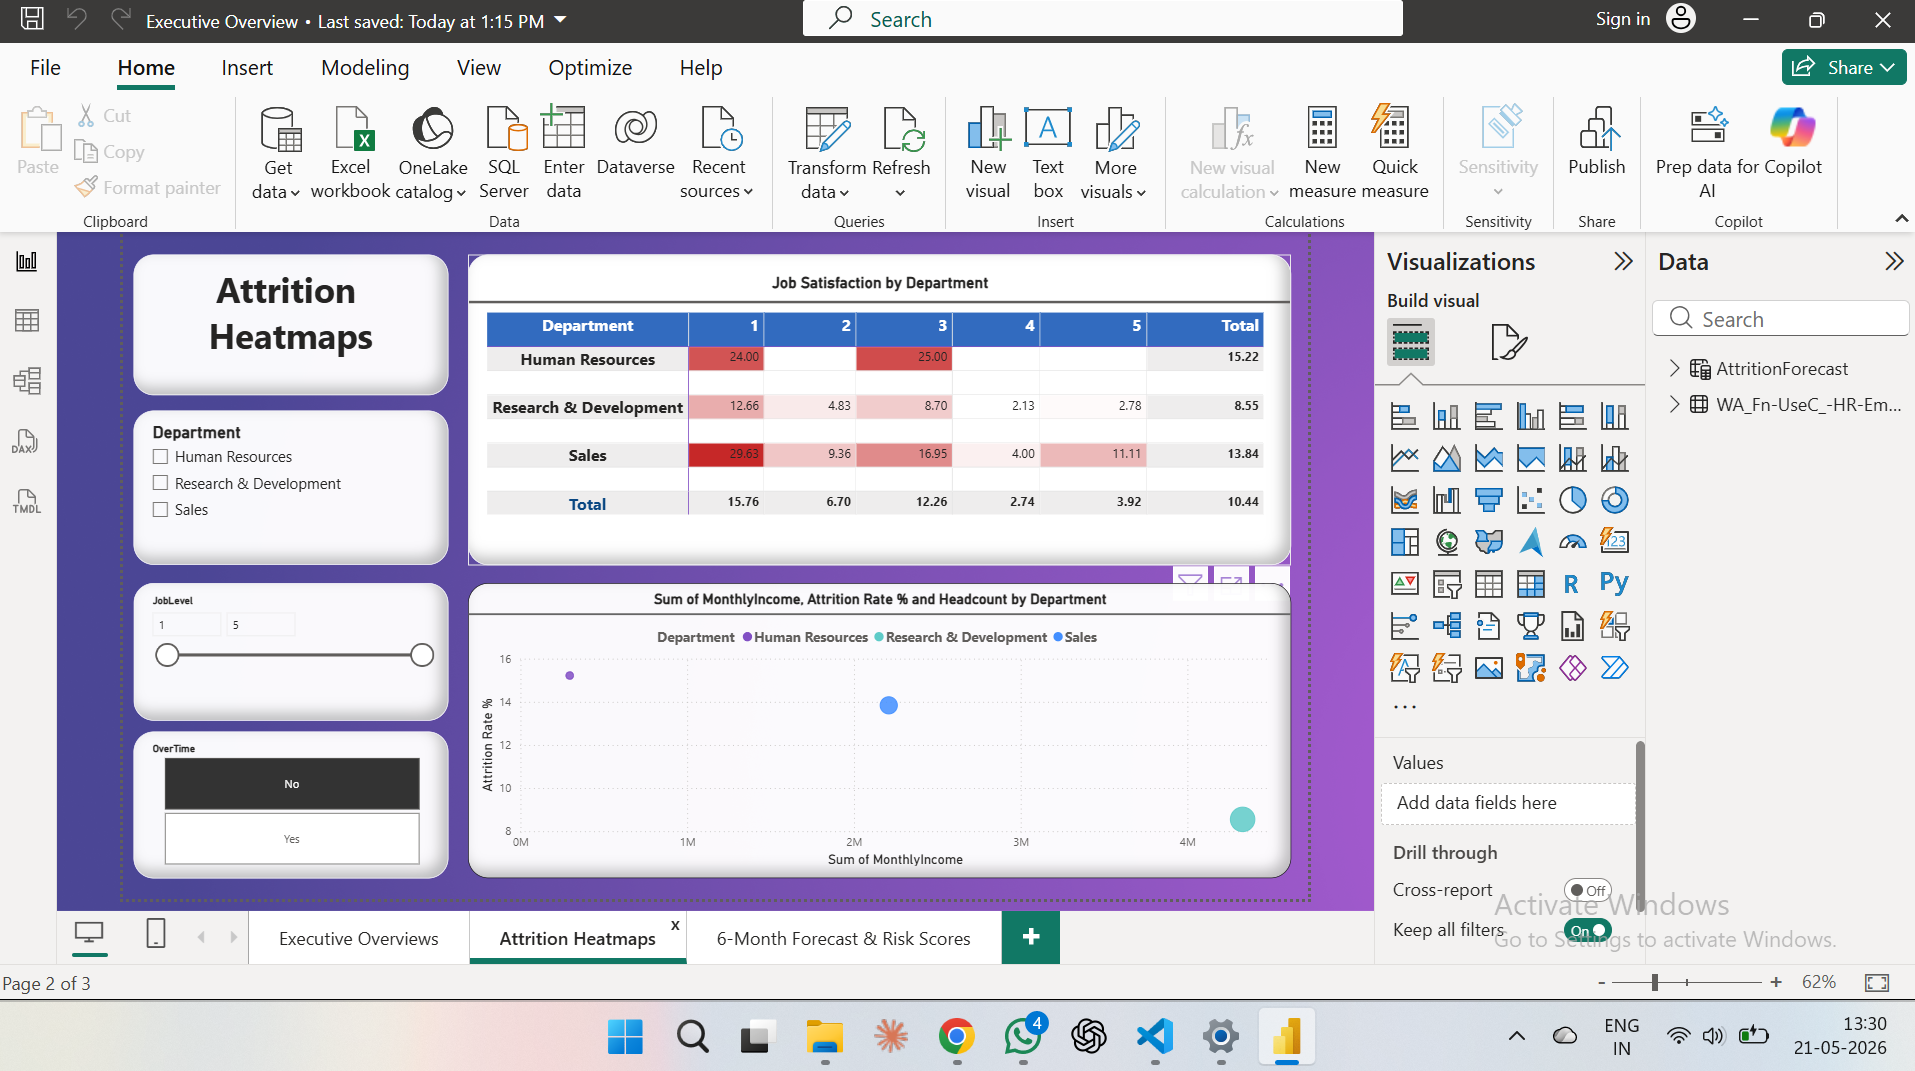

Layout of this report page (visuals, bound fields, positions):
{"tool":"powerbi","page":{"name":"Attrition Heatmaps","canvas":[1280,720],"ordinal":1},"visuals":[{"type":"pivotTable","title":"Job Satisfaction by Department","fields":{"Rows":["WA_Fn-UseC_-HR-Employee-Attrition.Department"],"Values":["WA_Fn-UseC_-HR-Employee-Attrition.Attrition Rate %"],"Columns":["WA_Fn-UseC_-HR-Employee-Attrition.JobLevel"]},"box":[372.4,24.3,889,335.2],"z":0},{"type":"scatterChart","fields":{"Y":["WA_Fn-UseC_-HR-Employee-Attrition.Attrition Rate %"],"Size":["WA_Fn-UseC_-HR-Employee-Attrition.Headcount"],"X":["Sum(WA_Fn-UseC_-HR-Employee-Attrition.MonthlyIncome)"],"Series":["WA_Fn-UseC_-HR-Employee-Attrition.Department"]},"box":[372.4,378.9,889,319],"z":1000},{"type":"slicer","fields":{"Values":["WA_Fn-UseC_-HR-Employee-Attrition.Department"]},"box":[11.3,192.7,340,166.8],"z":1001},{"type":"slicer","fields":{"Values":["WA_Fn-UseC_-HR-Employee-Attrition.JobLevel"]},"box":[11.3,378.9,340,149],"z":1002},{"type":"slicer","fields":{"Values":["WA_Fn-UseC_-HR-Employee-Attrition.OverTime"]},"box":[11.3,539.2,340,158.7],"z":1003},{"type":"textbox","box":[11.3,24.3,340,152.2],"z":1004}]}

Visuals, with their boxes on the page's 1280x720 design canvas (x1, y1, x2, y2). These are canvas units, not pixel positions in the 1915x1071 screenshot, which may show the page scaled, cropped or inside an application window:
"Job Satisfaction by Department" pivotTable: {"left": 372, "top": 24, "right": 1261, "bottom": 360}
scatterChart - WA_Fn-UseC_-HR-Employee-Attrition.Attrition Rate % x WA_Fn-UseC_-HR-Employee-Attrition.Headcount: {"left": 372, "top": 379, "right": 1261, "bottom": 698}
slicer - WA_Fn-UseC_-HR-Employee-Attrition.Department: {"left": 11, "top": 193, "right": 351, "bottom": 360}
slicer - WA_Fn-UseC_-HR-Employee-Attrition.JobLevel: {"left": 11, "top": 379, "right": 351, "bottom": 528}
slicer - WA_Fn-UseC_-HR-Employee-Attrition.OverTime: {"left": 11, "top": 539, "right": 351, "bottom": 698}
textbox: {"left": 11, "top": 24, "right": 351, "bottom": 176}
